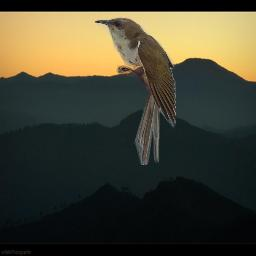Cuckoo: (94, 16, 176, 165)
